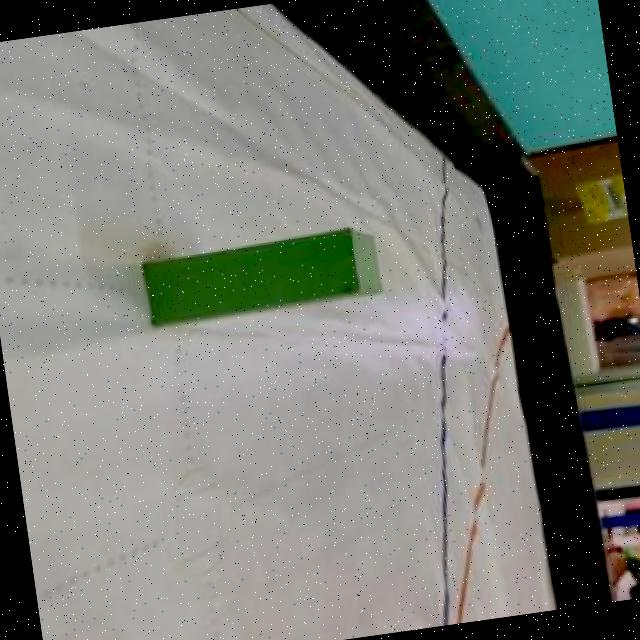greenbox: (136, 225, 386, 330)
